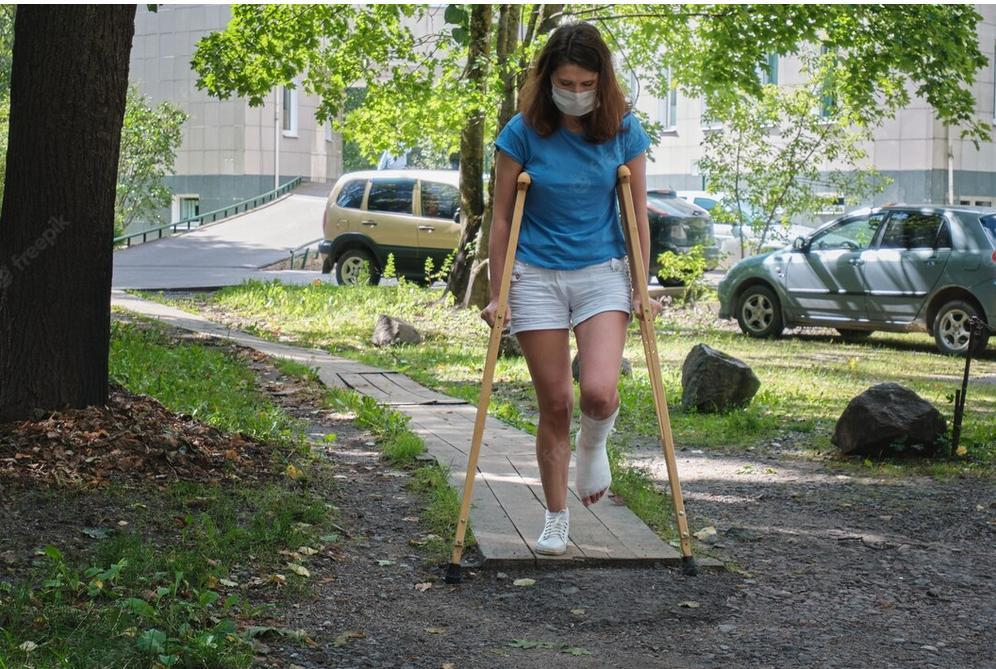crutches: (445, 22, 697, 586)
